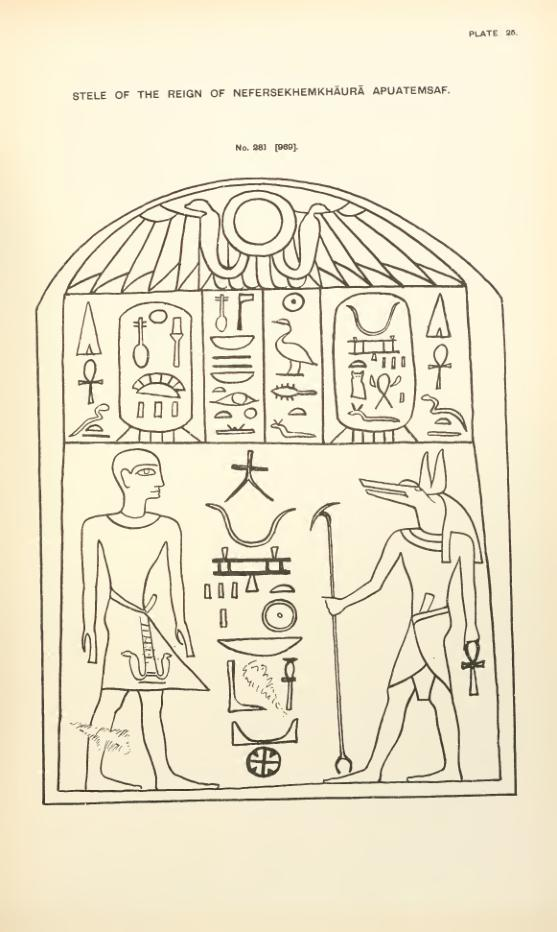circle: (329, 290, 422, 437), (113, 297, 200, 437)
